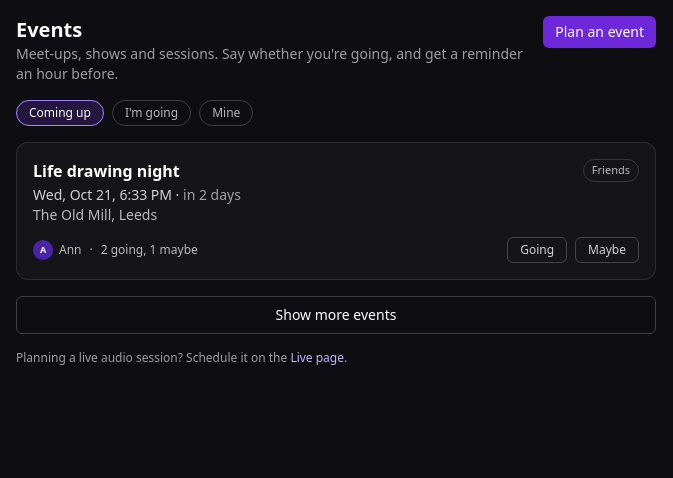
it: EventsPage › shows more a page at a time without repeats
The image size is (673, 478).
Step 1. Click the button "Show more events" → (336, 315), box top-left (16, 296), bottom-right (656, 334)
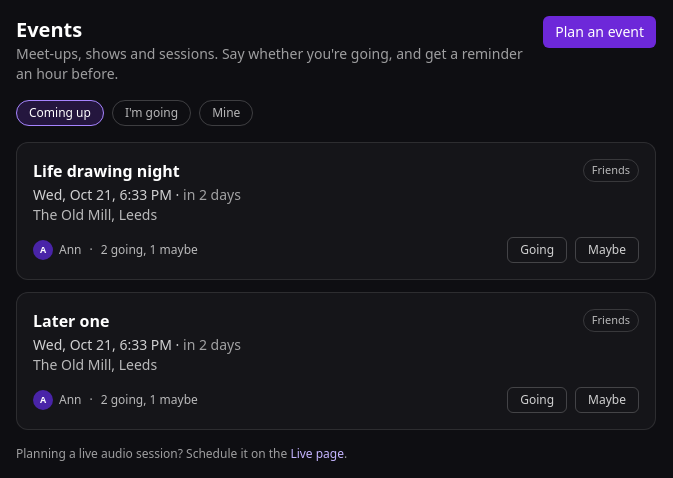
Expected: the number of links "Life drawing night" is 1, top-left (33, 160), bottom-right (180, 182)
Now the link "Later one" is shown, box top-left (33, 310), bottom-right (109, 332)
Now the button "Show more events" is gone
